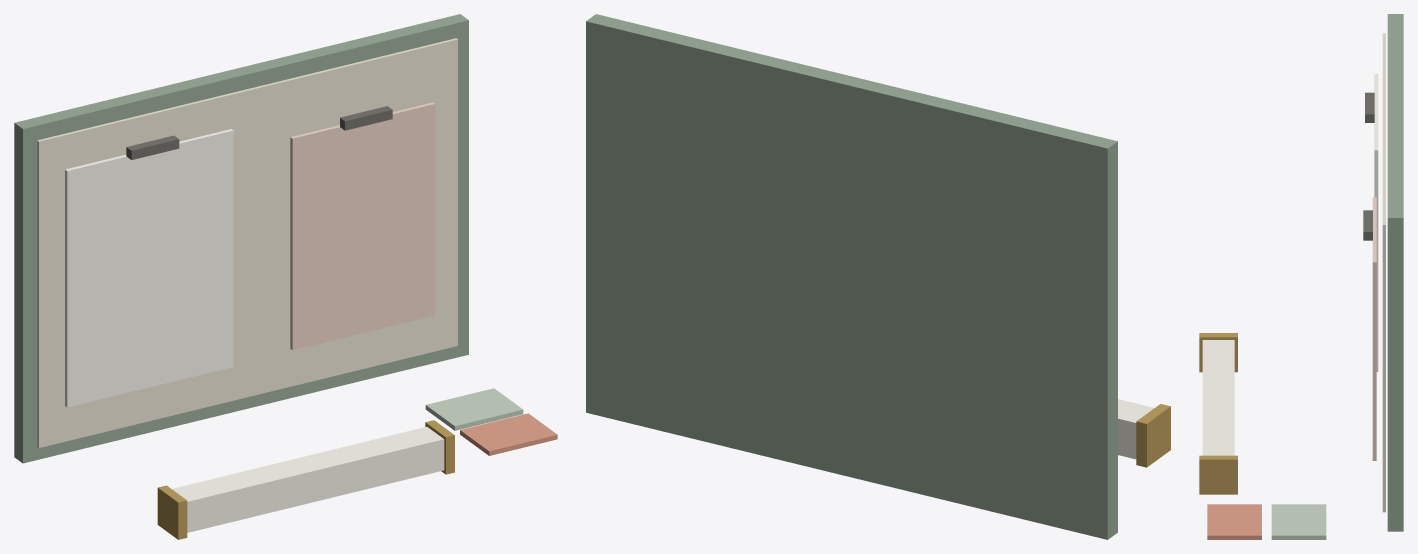
Rendered from graphic.gltf.
3 views of the same model, side by side, from view 1: azimuth 30°, elevation 25°; view 2: azimuth 150°, elevation 25°; view 3: azimuth 270°, elevation 25° (orthographic). The views are drawn at different scales.
Parts seen in each view (by area): view 1: BoardInner, hotspot_poster_a, hotspot_poster_b, Board, Roll, SwatchB, SwatchA, RollCapA, PosterClipA, PosterClipB, RollCapB; view 2: Board, RollCapA, Roll; view 3: Board, Roll, SwatchB, SwatchA, BoardInner, RollCapB, hotspot_poster_b, hotspot_poster_a, RollCapA, PosterClipA, PosterClipB.
Boxes of the visible parts, x1,y1,x2,y2 form: BoardInner: (37,38,457,447); hotspot_poster_a: (65,129,233,407); hotspot_poster_b: (290,102,435,350); Board: (14,14,468,463); Roll: (172,426,444,532); SwatchB: (425,388,523,430); SwatchA: (460,413,557,455); RollCapA: (157,485,187,539); PosterClipA: (126,135,179,159); PosterClipB: (340,106,392,130); RollCapB: (425,420,454,474); Board: (586,14,1117,539); RollCapA: (1136,404,1170,467); Roll: (1118,399,1154,459); Board: (1387,14,1403,531); Roll: (1202,340,1234,455); SwatchB: (1271,504,1326,539); SwatchA: (1207,504,1261,539); BoardInner: (1382,33,1385,512); RollCapB: (1199,455,1237,494); hotspot_poster_b: (1372,197,1376,460); hotspot_poster_a: (1374,74,1378,371); RollCapA: (1199,333,1237,372); PosterClipA: (1365,92,1374,122); PosterClipB: (1363,210,1372,240).
Bounding box in the file's own units: 3 × 2.26 × 1.27.
